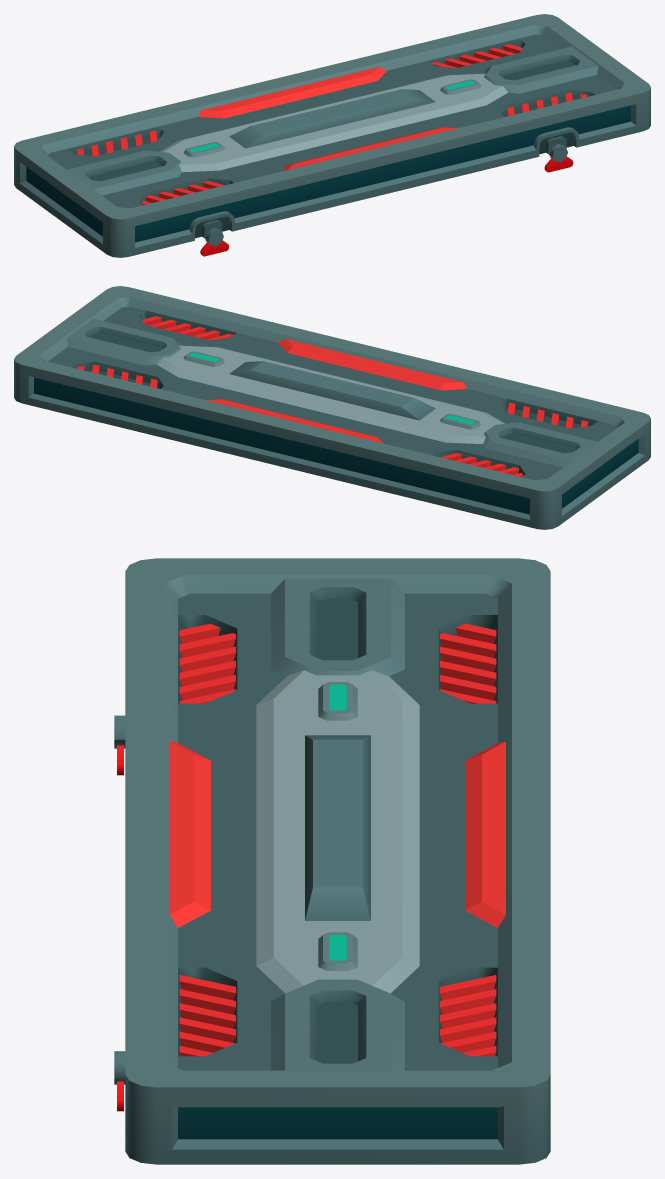
File: Container_09_Cap.fbx
3 views of the same model, one above another, from view 1: azimuth 30°, elevation 25°; view 2: azimuth 150°, elevation 25°; view 3: azimuth 270°, elevation 25° (orthographic). The views are drawn at different scales.
Visible parts, largest first — view 1: Container_09_Cap; view 2: Container_09_Cap; view 3: Container_09_Cap.
Boxes of the visible parts, bbox=[...] form: Container_09_Cap: bbox=[14, 14, 650, 257]; Container_09_Cap: bbox=[14, 286, 650, 529]; Container_09_Cap: bbox=[114, 558, 550, 1164].
Bounding box in the file's own units: 132 × 13.86 × 46.19.
